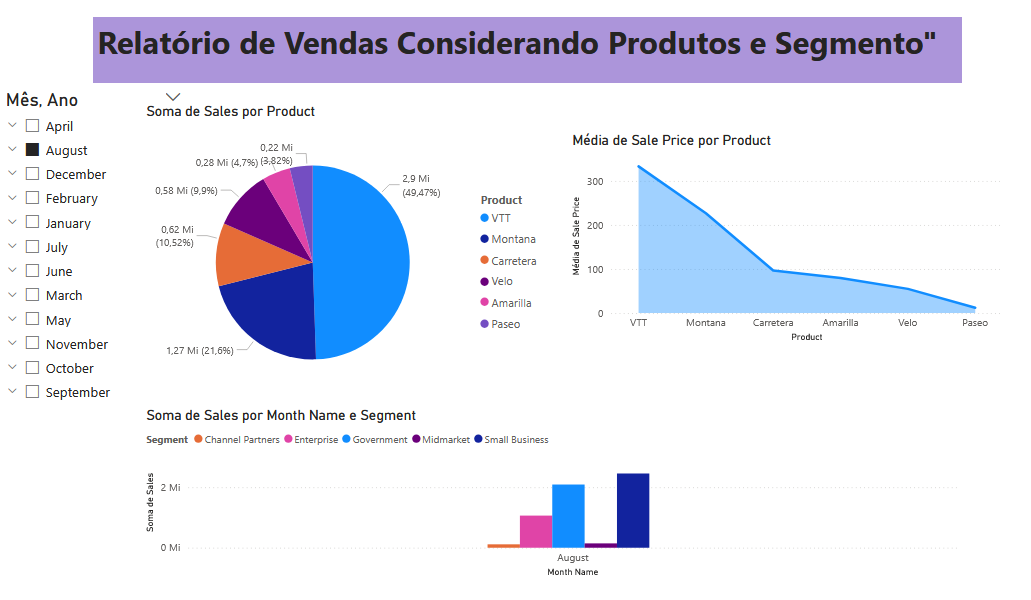

The dashboard page shown, as its layout file describes it:
{"tool":"powerbi","page":{"name":"Página 1","canvas":[1280,720],"ordinal":0},"visuals":[{"type":"textbox","box":[148.3,21,1041.2,79.4],"z":0},{"type":"slicer","fields":{"Values":["financials.Month Name","financials.Year"]},"box":[31.5,100.4,235.2,471.9],"z":1000},{"type":"actionButton","box":[0,0,100,40],"z":2000},{"type":"pieChart","fields":{"Category":["financials.Product"],"Y":["Sum(financials. Sales)"]},"box":[206.7,124.3,486.9,364],"z":3000},{"type":"stackedAreaChart","fields":{"Category":["financials.Product"],"Y":["Avg(financials.Sale Price)"]},"box":[717.6,158.8,525.8,257.7],"z":4000},{"type":"clusteredColumnChart","fields":{"Category":["financials.Month Name"],"Series":["financials.Segment"],"Y":["Sum(financials. Sales)"]},"box":[206.7,488.4,982.8,209.7],"z":5000}]}

Visuals, with their boxes on the page's 1280x720 design canvas (x1, y1, x2, y2). These are canvas units, not pixel positions in the 1031x600 screenshot, which may show the page scaled, cropped or inside an application window:
textbox: 148, 21, 1190, 100
slicer - financials.Month Name x financials.Year: 32, 100, 267, 572
actionButton: 0, 0, 100, 40
pieChart - financials.Product x Sum(financials. Sales): 207, 124, 694, 488
stackedAreaChart - financials.Product x Avg(financials.Sale Price): 718, 159, 1243, 416
clusteredColumnChart - financials.Month Name x financials.Segment: 207, 488, 1190, 698
